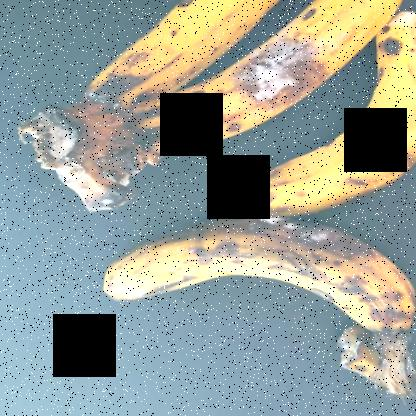overripe: (145, 1, 400, 139), (235, 24, 415, 211), (64, 0, 290, 100)
rotten: (72, 213, 416, 340)
